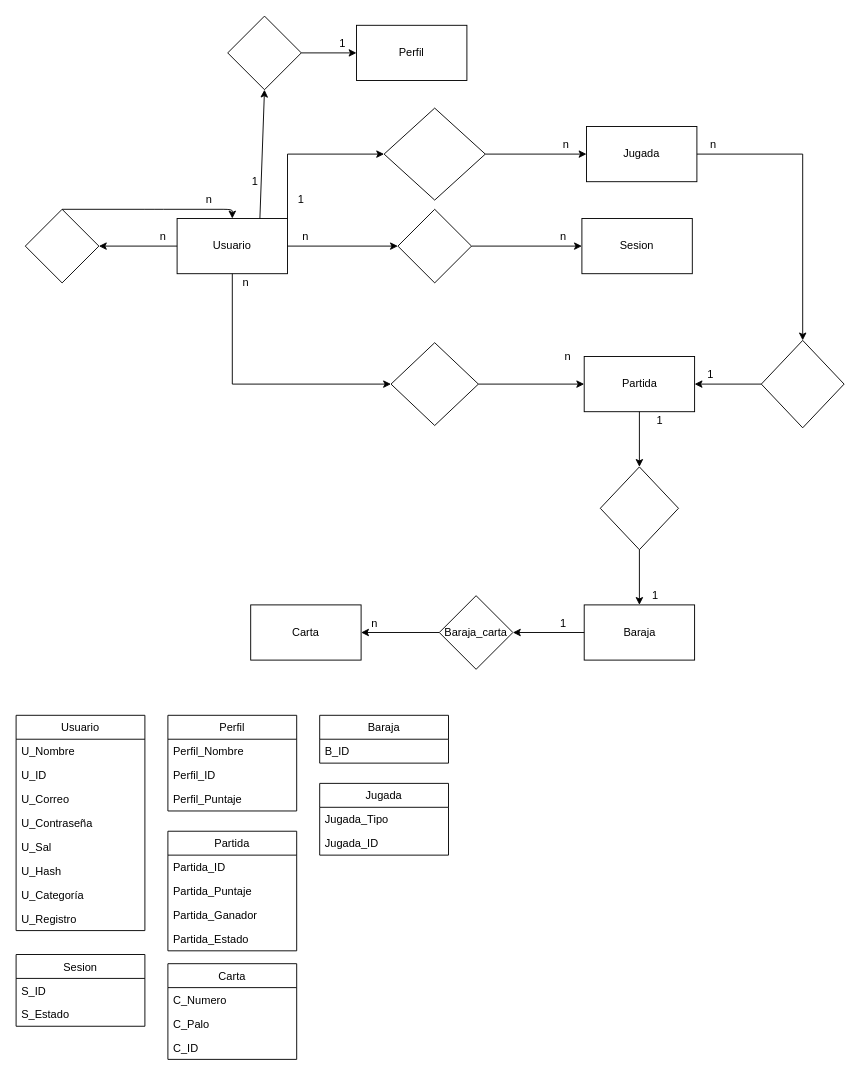
The diagram is 860 pixels wide and 1078 high, and some of its shapes have lost their labels. Each missing label, with the centre of its shape:
"Chatea" goes at point 61,245.
"Inicia" goes at point 434,245.
"Jugada_Partida" goes at point 802,383.
"Partida_Baraja" goes at point 638,508.
"Tiene" goes at point 264,52.
"Usuario_Jugada" goes at point 434,153.
"Usuario_Partida" goes at point 434,384.
